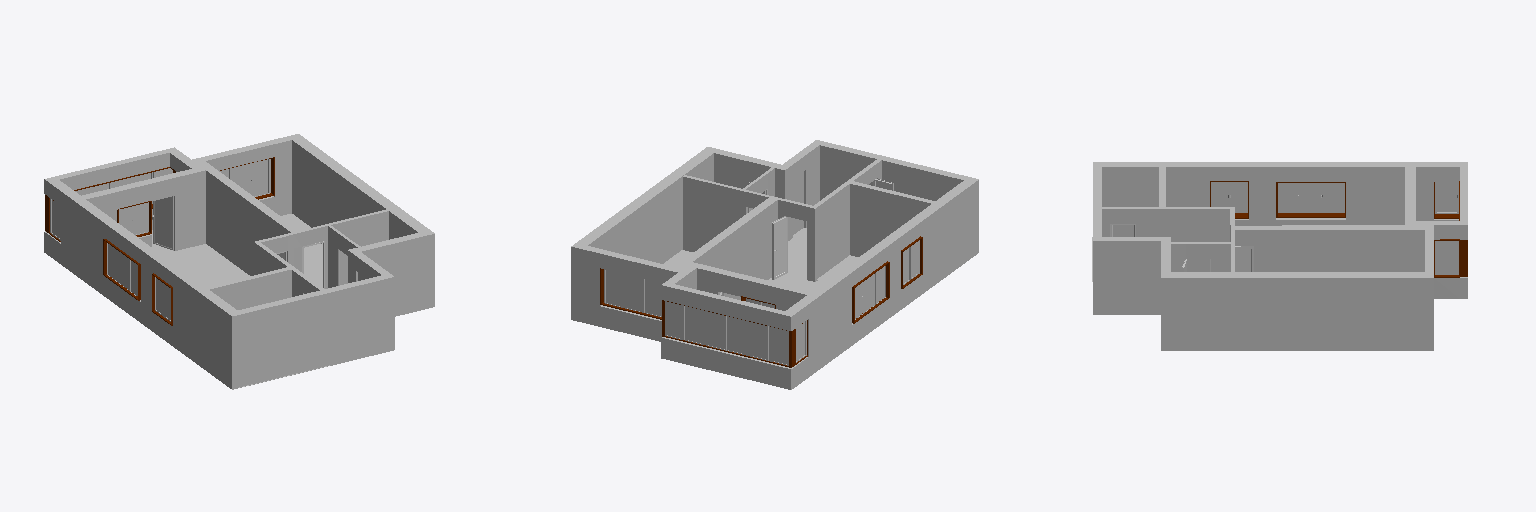
The model's file is Apartment.obj.
3 renders of one model, left to right at view 1: azimuth 30°, elevation 25°; view 2: azimuth 150°, elevation 25°; view 3: azimuth 270°, elevation 25°, orthographic.
Parts seen in each view (by area): view 1: WindowRAM_wood.006_Untitled.027, Floor_Plane, BalconyDoors_Mesh.001; view 2: WindowRAM_wood.006_Untitled.027, Floor_Plane, Door_Bedroom_Untitled.032; view 3: WindowRAM_wood.006_Untitled.027.
Boxes of the visible parts, <box> form: WindowRAM_wood.006_Untitled.027: <box>44,134,434,389</box>; Floor_Plane: <box>151,214,322,287</box>; BalconyDoors_Mesh.001: <box>152,196,173,250</box>; WindowRAM_wood.006_Untitled.027: <box>571,140,978,389</box>; Floor_Plane: <box>664,228,824,290</box>; Door_Bedroom_Untitled.032: <box>772,216,786,279</box>; WindowRAM_wood.006_Untitled.027: <box>1093,162,1467,350</box>.
Size of the model in its own units: 10.79 by 3.16 by 14.69.